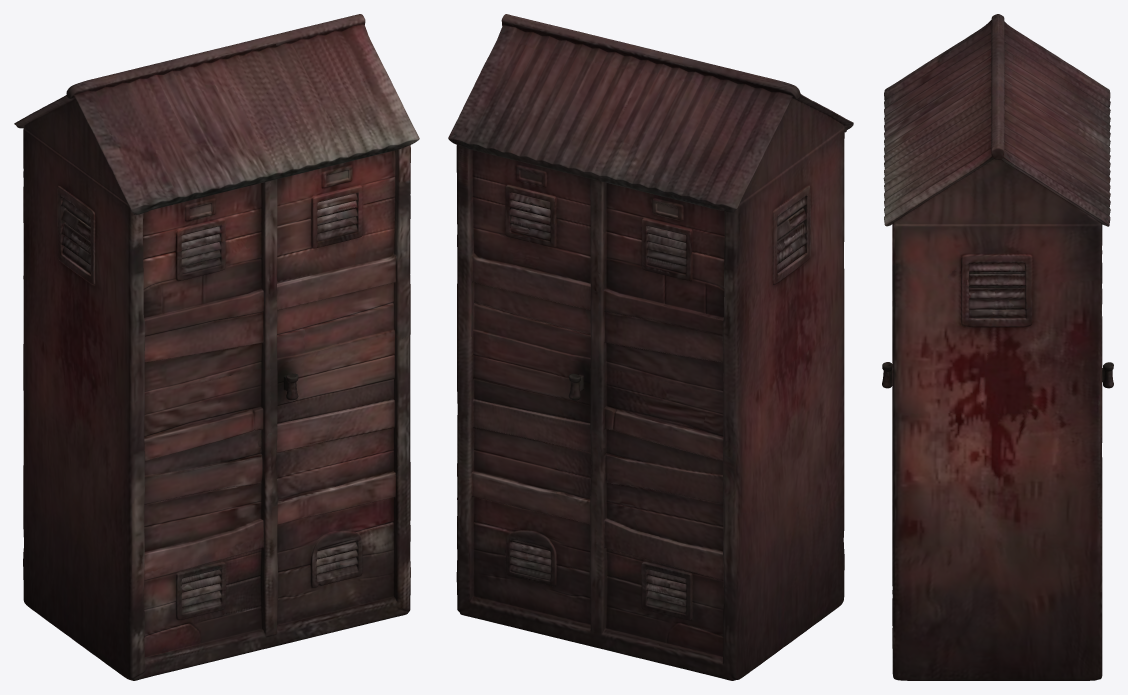
Rendered from bloodstained+wooden+locker+3d+model (5).glb.
The picture shows the model from 3 angles, left to right: view 1: azimuth 30°, elevation 25°; view 2: azimuth 150°, elevation 25°; view 3: azimuth 270°, elevation 25°; orthographic projection. The views are drawn at different scales.
Parts seen in each view (by area): view 1: tripo_node_c3404ee8-6404-463f-ad6e-25c5cb7b80b7; view 2: tripo_node_c3404ee8-6404-463f-ad6e-25c5cb7b80b7; view 3: tripo_node_c3404ee8-6404-463f-ad6e-25c5cb7b80b7.
Part boxes in pixels (x1=…): tripo_node_c3404ee8-6404-463f-ad6e-25c5cb7b80b7: x1=14, y1=14, x2=419, y2=680; tripo_node_c3404ee8-6404-463f-ad6e-25c5cb7b80b7: x1=448, y1=14, x2=853, y2=680; tripo_node_c3404ee8-6404-463f-ad6e-25c5cb7b80b7: x1=882, y1=14, x2=1113, y2=680.
Bounding box in the file's own units: 0.5505 × 1 × 0.3921.
Materials: 1 (1 with a texture image).
